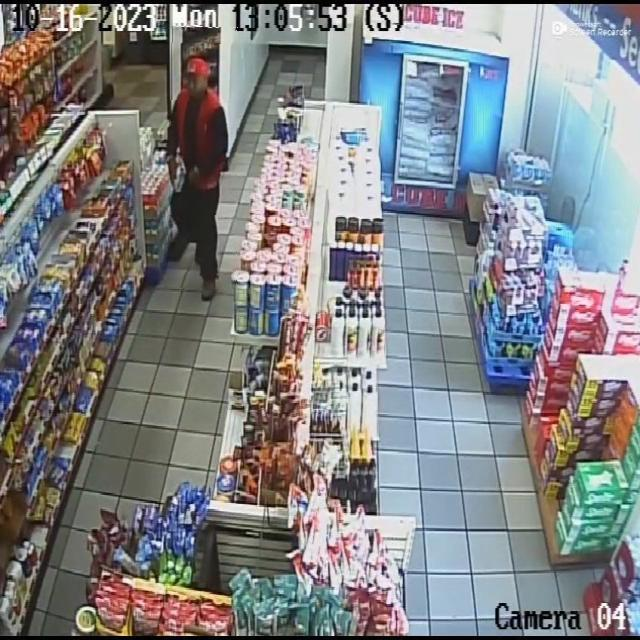Normal: (168, 27, 237, 289)
